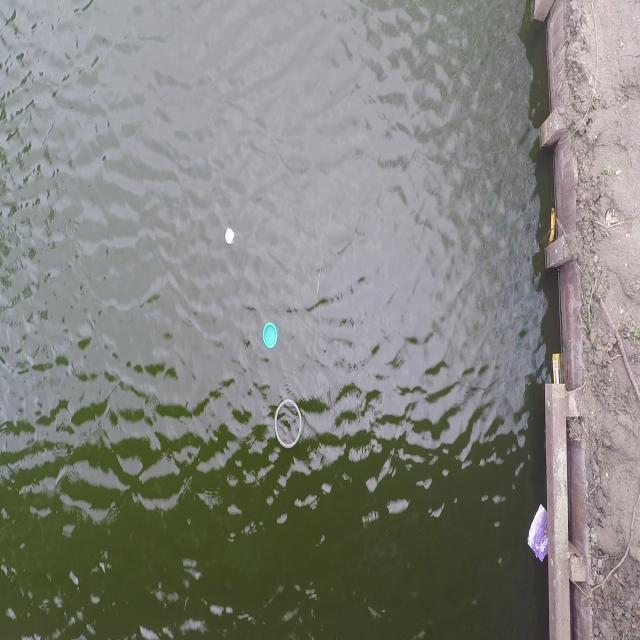Autre plastique: (522, 496, 548, 573), (260, 321, 280, 357)
